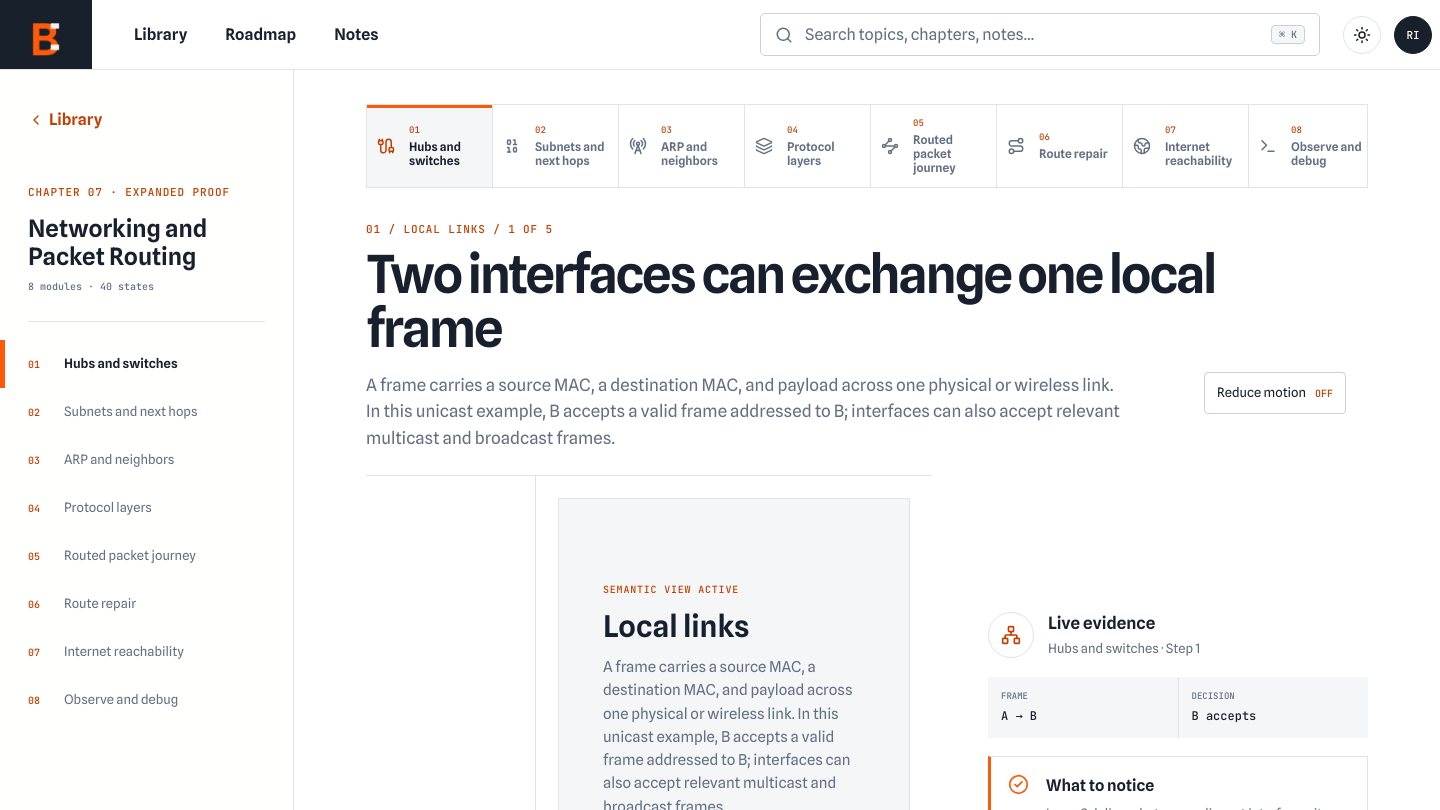
Scenario: networking observatory proof › changes scenarios and preserves complete semantic evidence without WebGL
This screenshot has width=1440, height=810.
Click the button "06 Route repair". click: click(1060, 146)
box: [997,105,1123,188]
(page scrolled)
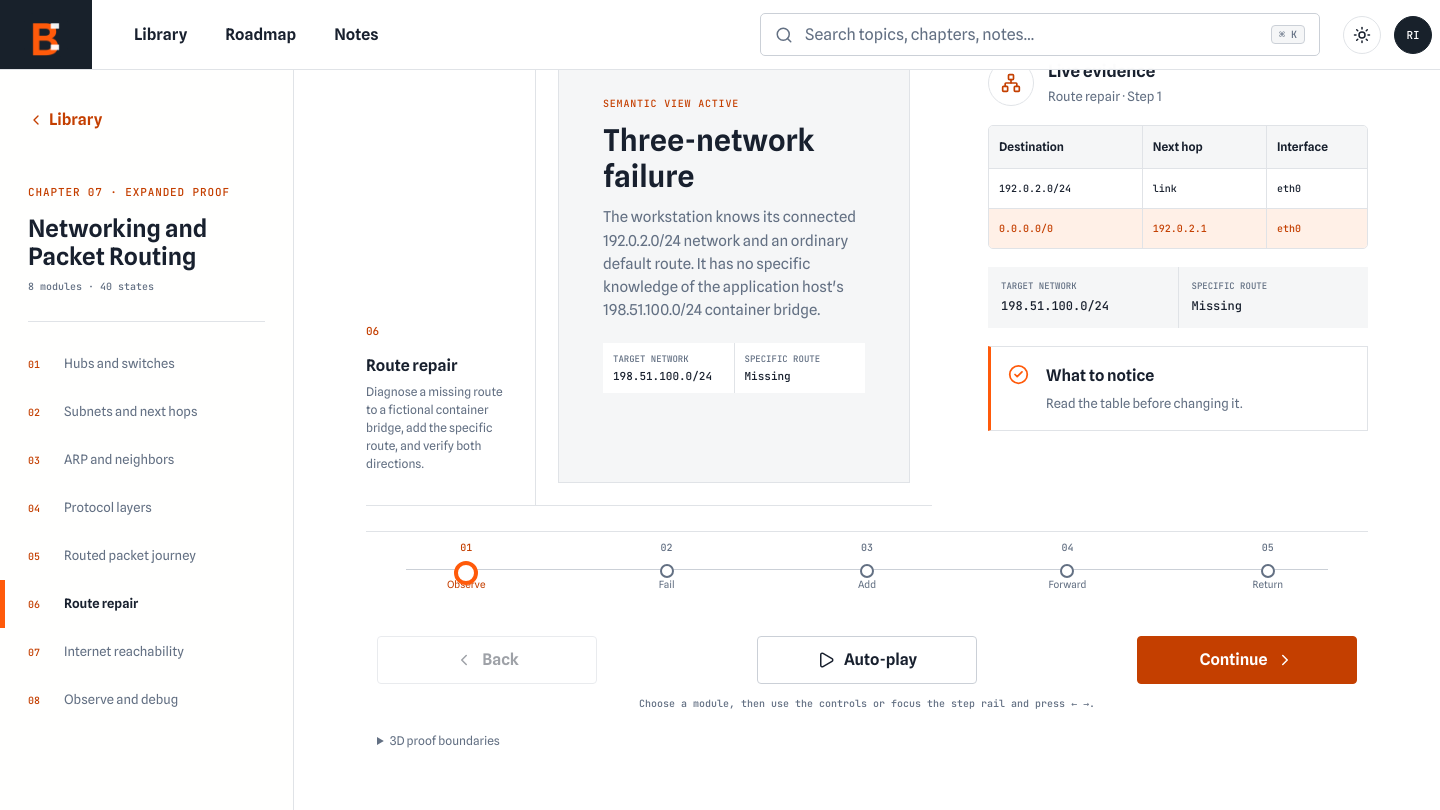
Check: the element with test id "semantic-evidence" shows "198.51.100.0/24", box [1001,298,1109,314]
Click the button "Continue". click: click(1247, 660)
box: [1137,636,1357,684]
(page scrolled)
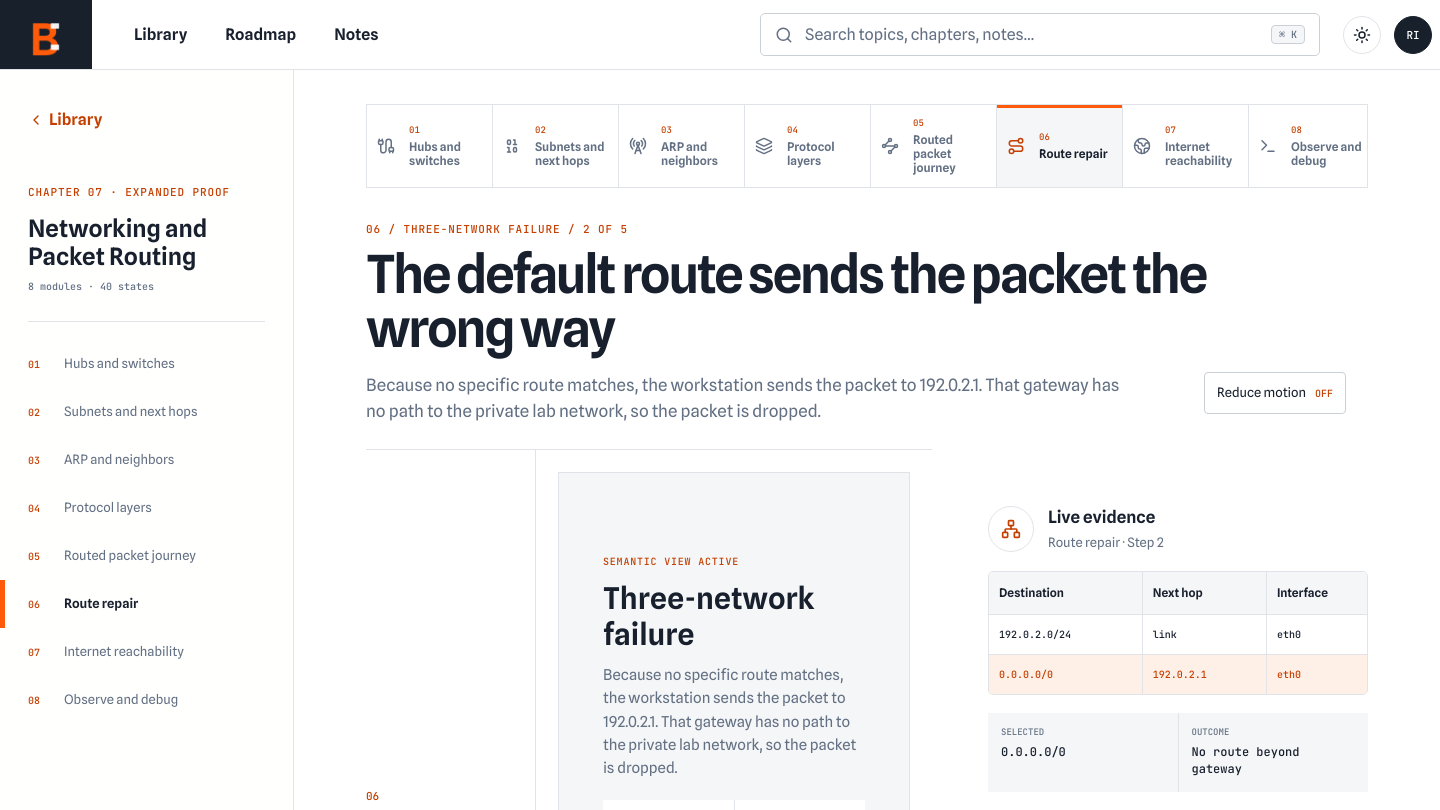
Check: the heading "The default route sends the packet the wrong way" is shown, box [366,247,1346,356]
